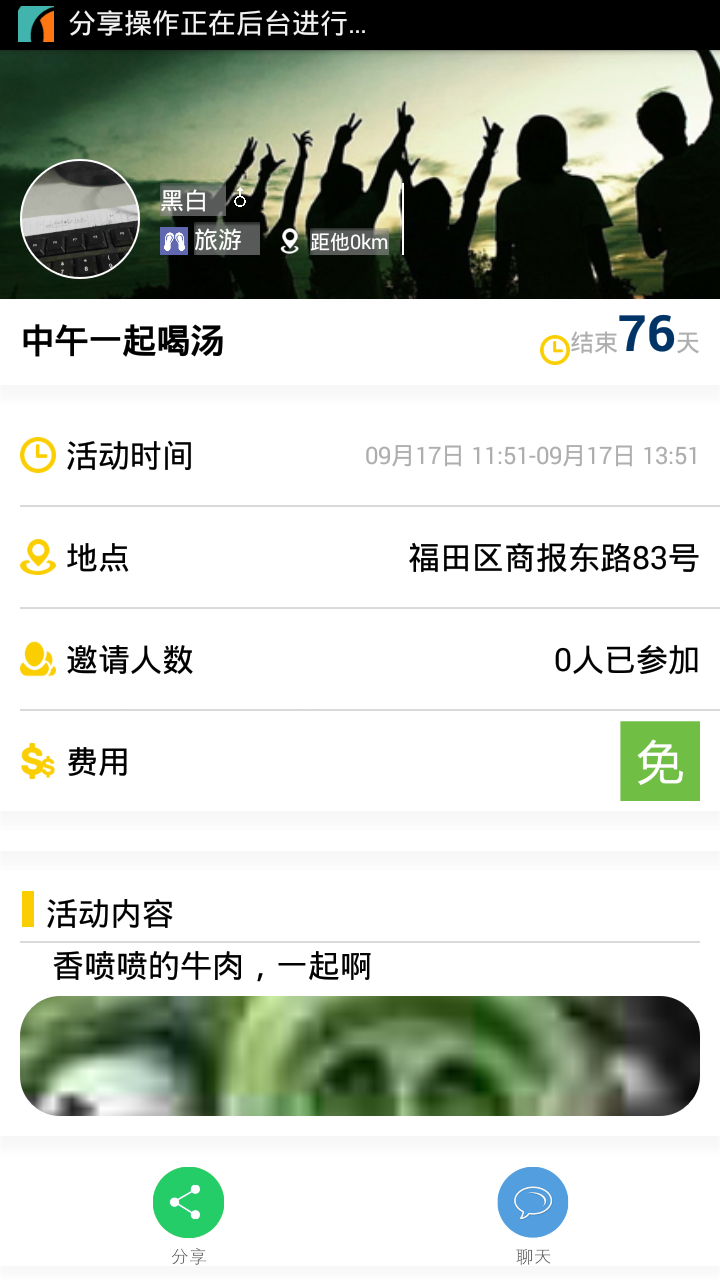imgbutton: (126, 1162, 275, 1269), (469, 1159, 596, 1256)
textview: (8, 306, 710, 388)
